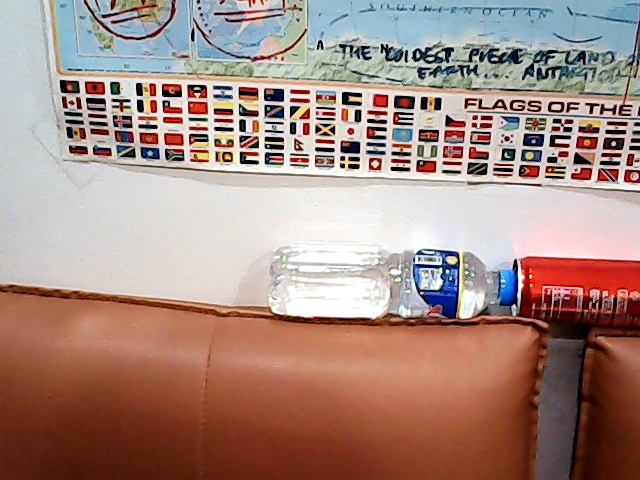Cola: (507, 251, 640, 340)
Summit Water: (261, 226, 519, 344)
